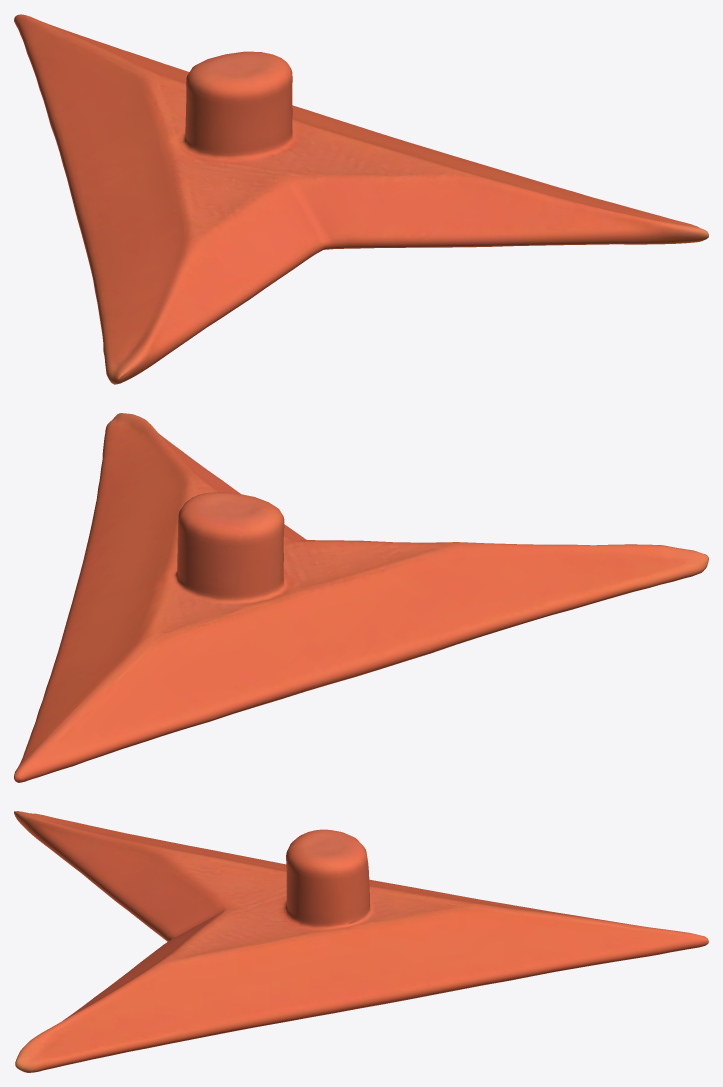
The model's file is DiceArrow.min.glb.
3 views of the same model, one above another, from view 1: azimuth 30°, elevation 25°; view 2: azimuth 150°, elevation 25°; view 3: azimuth 270°, elevation 25° (orthographic). The views are drawn at different scales.
Visible parts, largest first — view 1: Mesh_0; view 2: Mesh_0; view 3: Mesh_0.
Part boxes in pixels (<box>): Mesh_0: <box>14,14,708,384</box>; Mesh_0: <box>14,413,708,782</box>; Mesh_0: <box>14,811,708,1072</box>.
Bounding box in the file's own units: 1.63 × 0.3225 × 1.89.
1 material, 1 textured.
